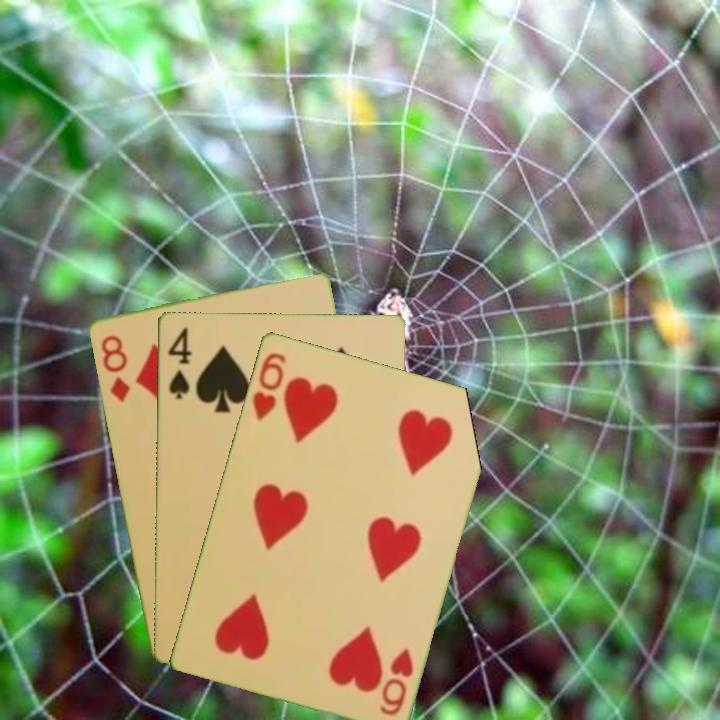4s: (164, 323, 194, 402)
6h: (248, 348, 289, 423), (375, 644, 416, 718)
8d: (97, 331, 133, 405)
